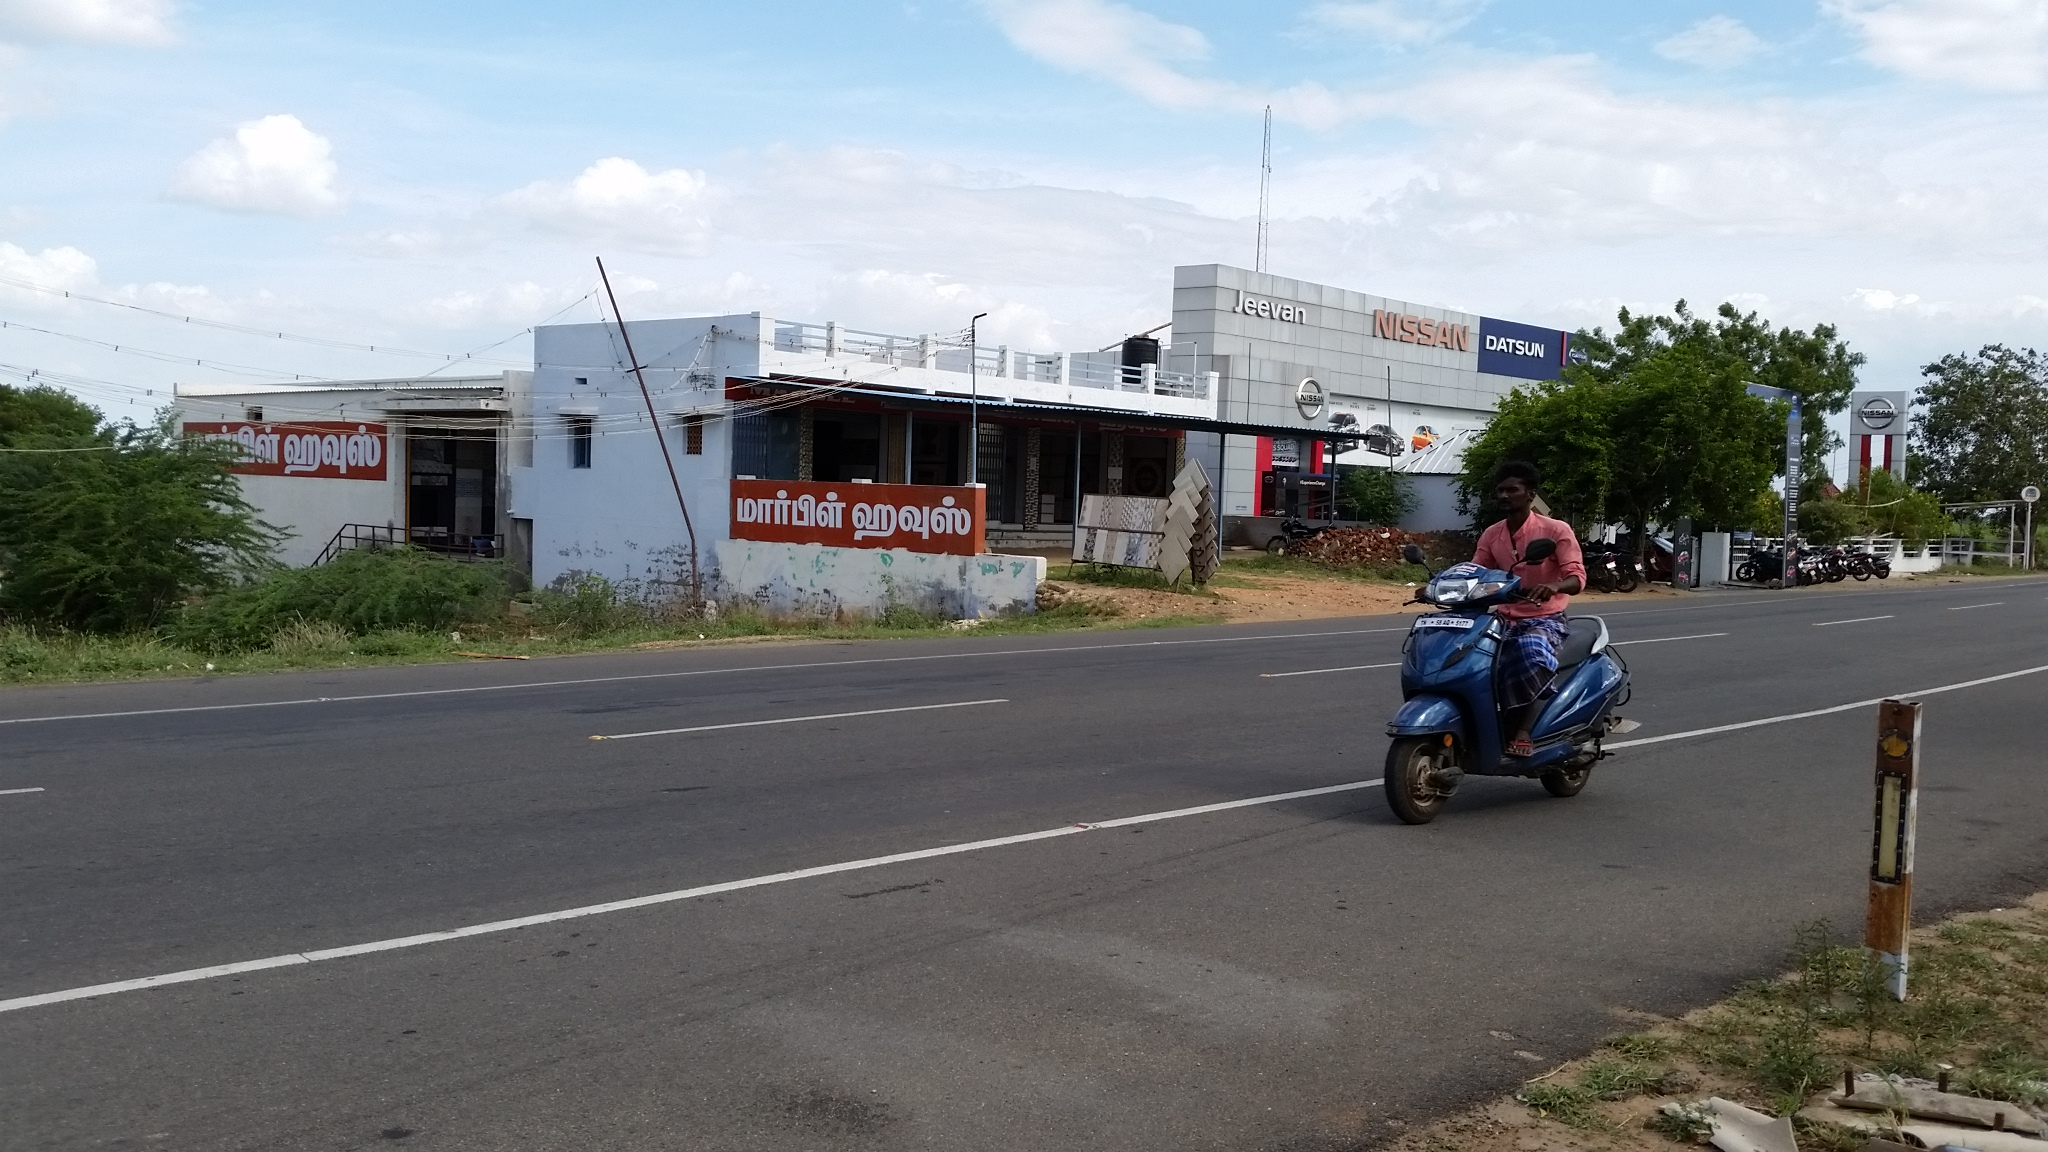biker: (1327, 412, 1672, 848)
nohelmet: (1474, 453, 1554, 533)
